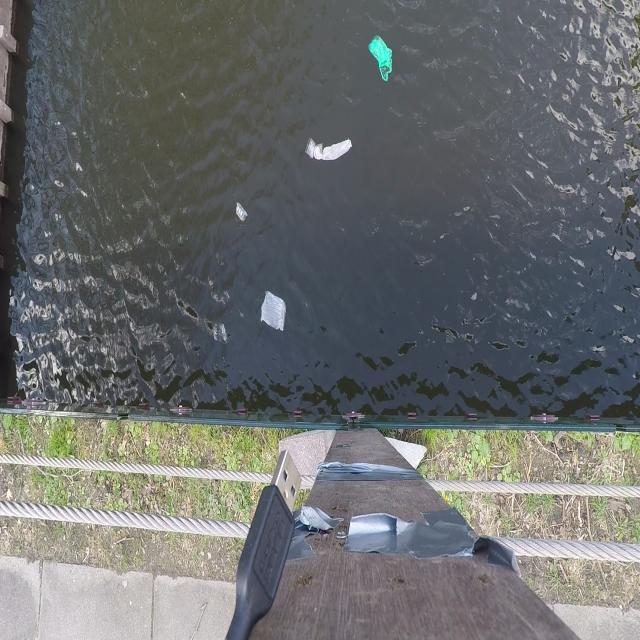Autre plastique: (232, 199, 251, 228)
Sac plastique: (302, 130, 355, 166), (367, 27, 398, 86), (257, 285, 290, 335), (210, 318, 233, 352)
